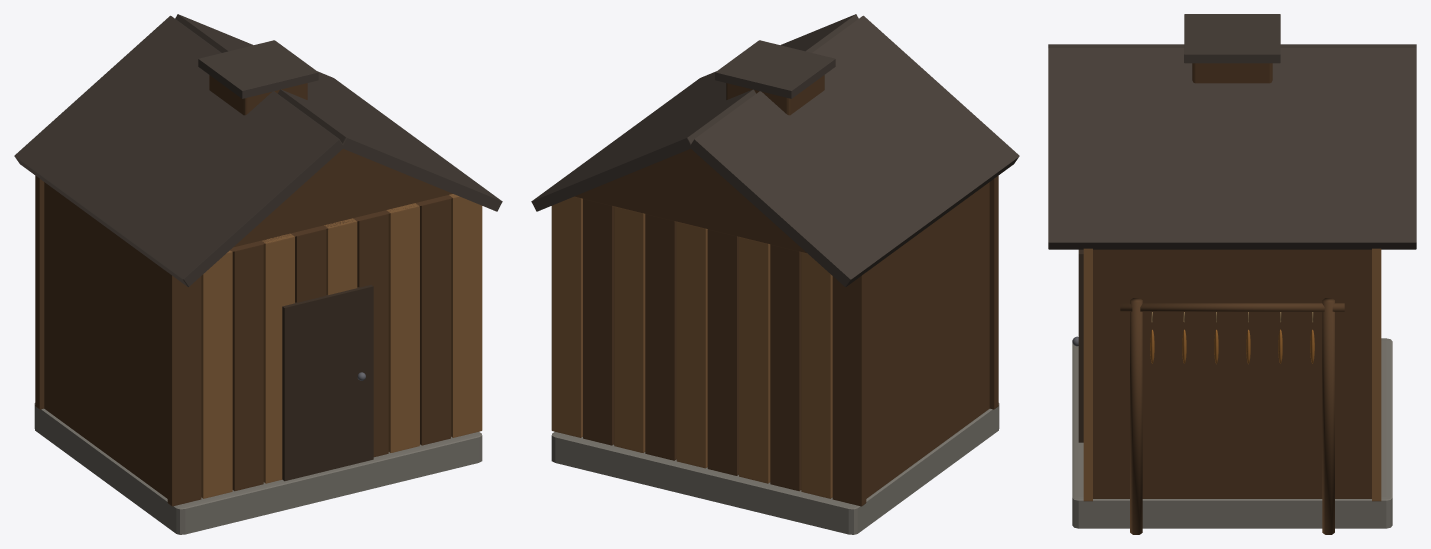
Rendered from raeucherhuette.glb.
3 views of the same model, side by side, from view 1: azimuth 30°, elevation 25°; view 2: azimuth 150°, elevation 25°; view 3: azimuth 270°, elevation 25° (orthographic). The views are drawn at different scales.
Parts seen in each view (by area): view 1: Cube; view 2: Cube; view 3: Cube.
Part boxes in pixels (x1,y1,x2,y2): Cube: (14,14,502,534); Cube: (531,14,1019,534); Cube: (1048,14,1416,534).
Bounding box in the file's own units: 2.54 × 2.85 × 2.3.
